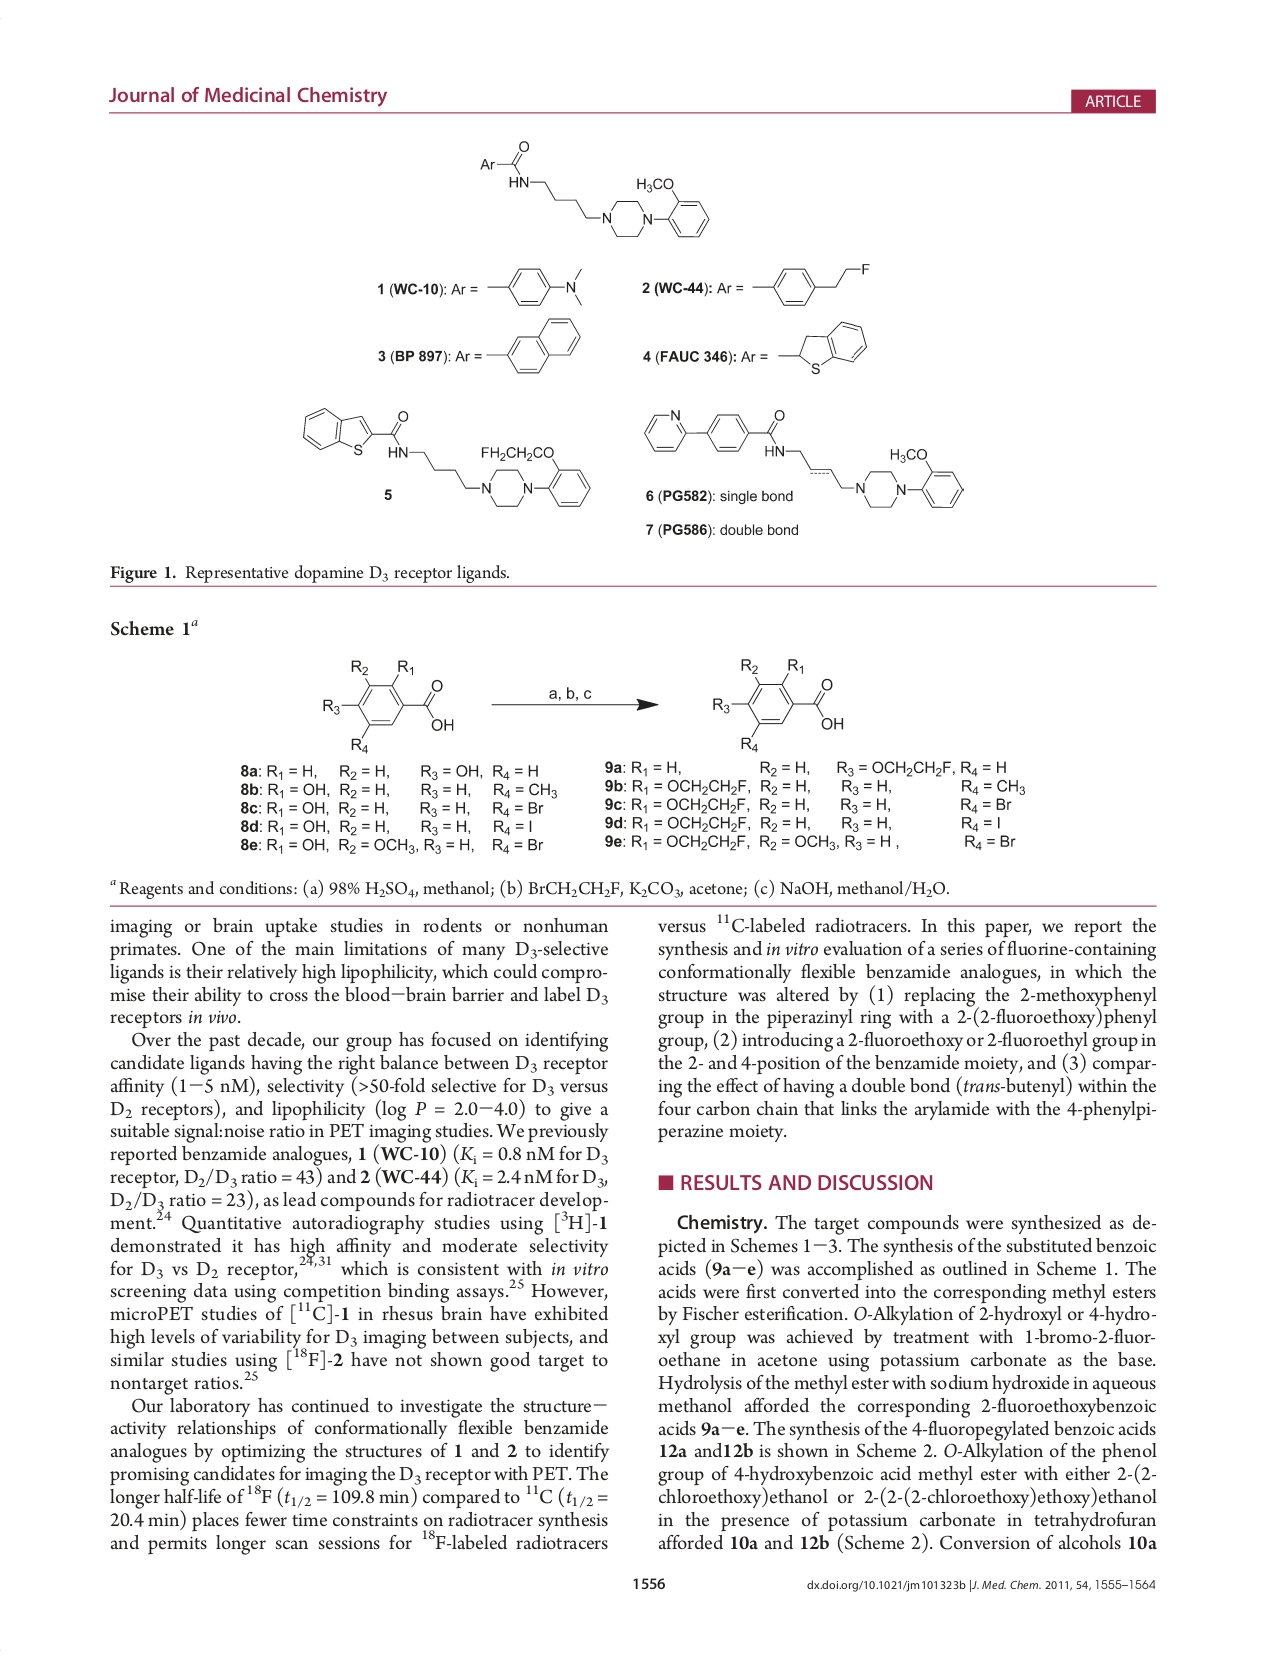exist_molecular: (642, 406, 969, 511), (297, 394, 593, 509), (479, 132, 719, 241), (706, 650, 846, 755), (319, 656, 457, 757), (753, 254, 872, 310), (481, 317, 588, 376), (777, 319, 868, 378), (485, 261, 586, 309)
